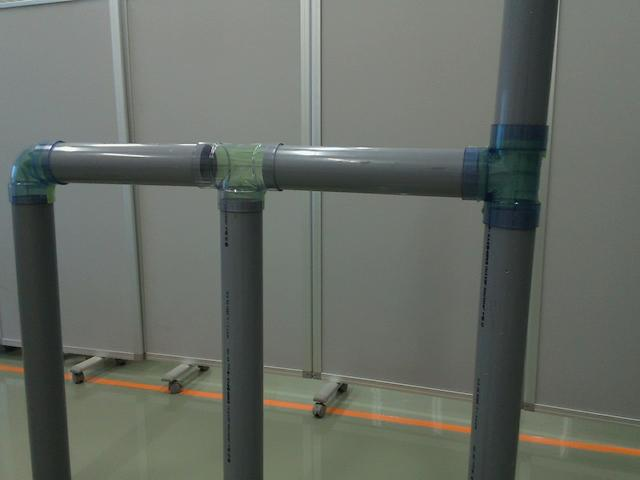bent: (6, 140, 73, 208)
junction: (461, 118, 553, 233), (192, 139, 286, 216)
